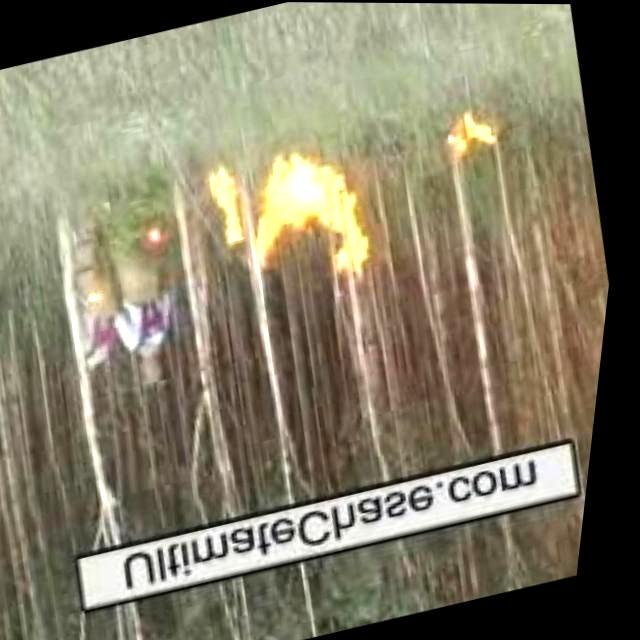fire: (243, 136, 389, 272), (443, 97, 512, 159), (204, 161, 256, 243)
